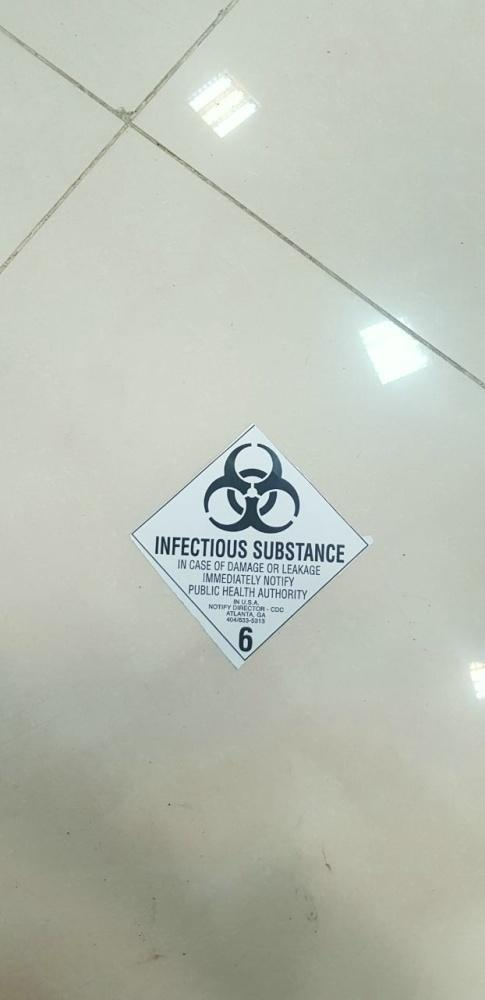infectious-substance: (128, 421, 375, 666)
